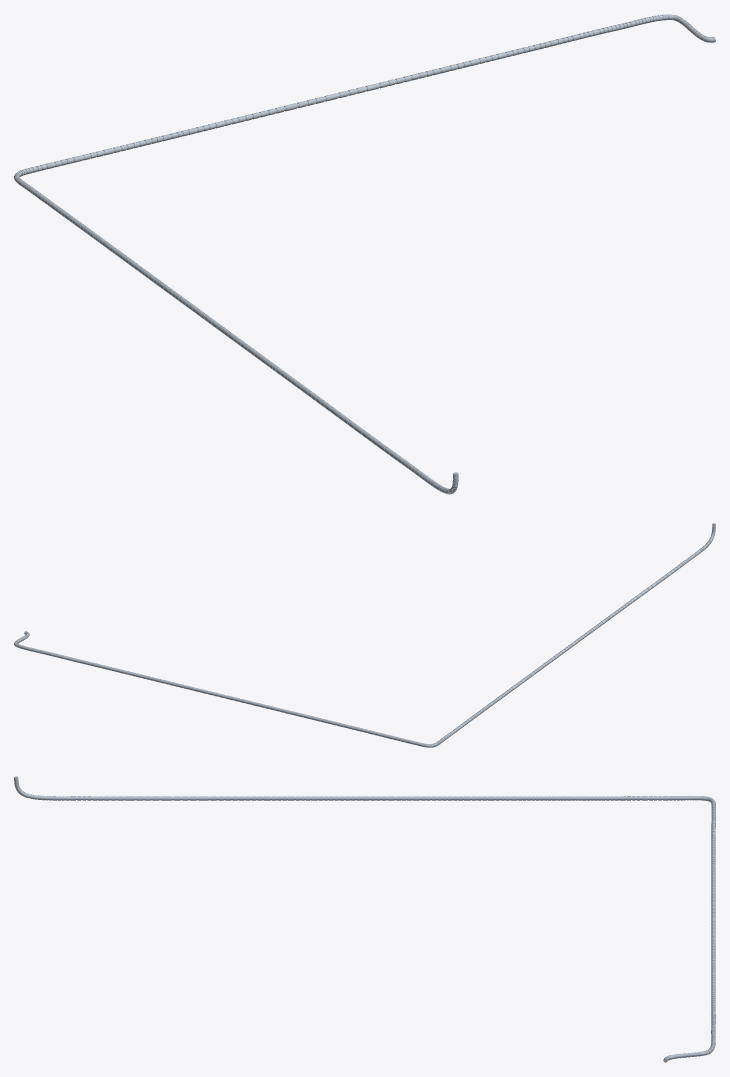
File: SM_Cable_1_Splines_10.fbx
The picture shows the model from 3 angles, top to bottom: view 1: azimuth 30°, elevation 25°; view 2: azimuth 150°, elevation 25°; view 3: azimuth 270°, elevation 25°; orthographic projection. The views are drawn at different scales.
Parts seen in each view (by area): view 1: SM_Cable_1_Splines_10; view 2: SM_Cable_1_Splines_10; view 3: SM_Cable_1_Splines_10.
Part boxes in pixels (box(x1,y1,x2,y2)): SM_Cable_1_Splines_10: box(14, 14, 715, 494); SM_Cable_1_Splines_10: box(14, 523, 715, 747); SM_Cable_1_Splines_10: box(14, 776, 715, 1062).
Size of the model in its own units: 908 by 1041 by 45.84.
